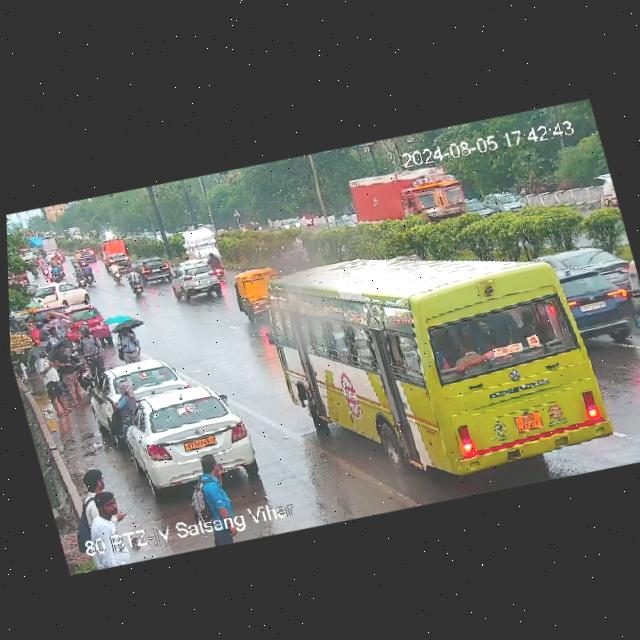bus: (251, 197, 626, 519)
car: (116, 369, 265, 498), (531, 227, 640, 317), (561, 267, 640, 351), (100, 348, 189, 413), (229, 261, 289, 325), (166, 257, 227, 308), (25, 274, 91, 314), (486, 185, 530, 218), (134, 254, 174, 288), (108, 248, 131, 273), (278, 214, 302, 233), (76, 246, 99, 263)
motorcycle: (59, 312, 110, 374), (37, 308, 75, 346), (122, 267, 150, 300), (206, 247, 225, 279), (105, 258, 121, 284)
person: (181, 446, 241, 525), (78, 486, 136, 542), (105, 310, 148, 365), (75, 463, 117, 513)
truck: (345, 153, 475, 237), (99, 235, 134, 261)
